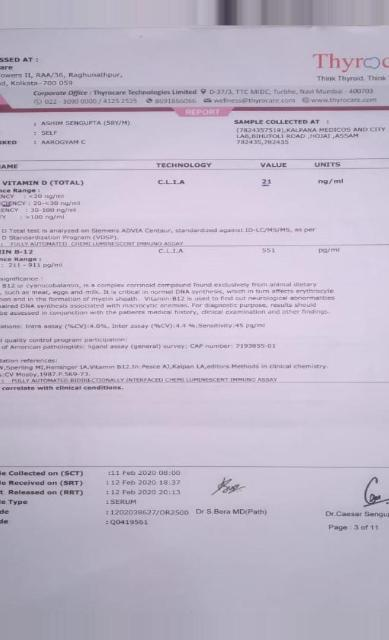Name: (38, 120, 131, 126)
Ref_By: (39, 129, 60, 136)
Technology: (155, 176, 191, 188), (158, 247, 188, 256)
Test_Asked: (39, 138, 89, 146)
Test_Name: (0, 179, 89, 223), (0, 248, 67, 272)
Unit: (316, 176, 348, 187), (317, 246, 346, 257)
Value: (260, 176, 278, 189), (261, 246, 280, 256)
